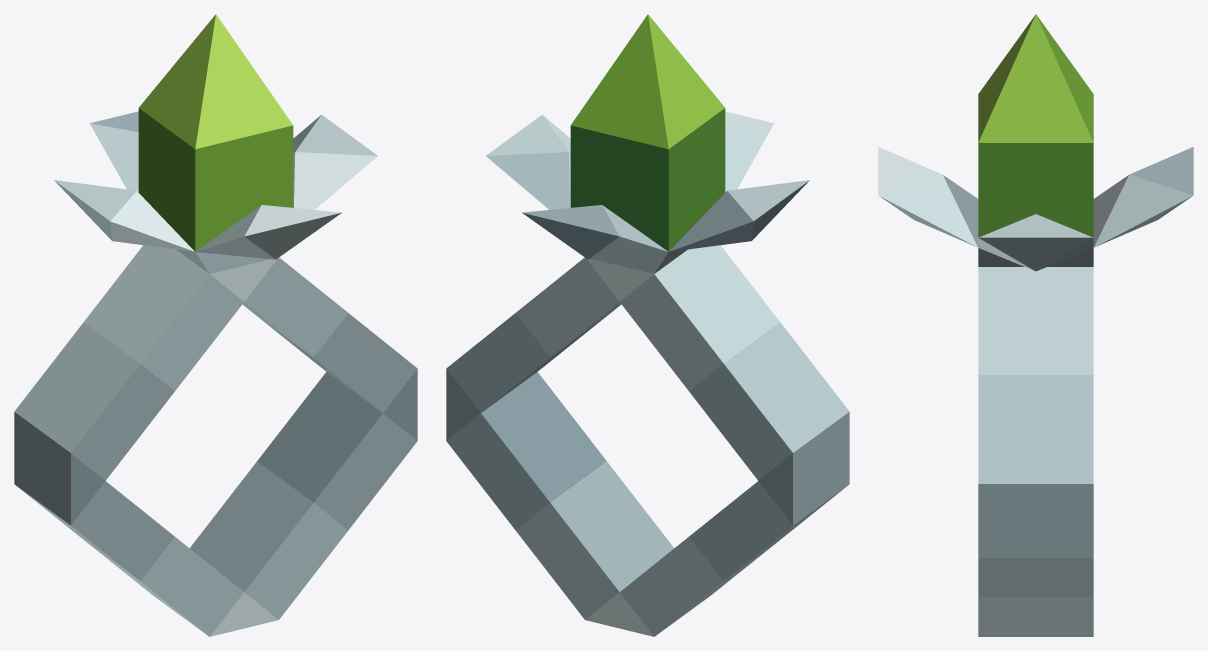
Rendered from ring_fortune_greater.obj.
3 views of the same model, side by side, from view 1: azimuth 30°, elevation 25°; view 2: azimuth 150°, elevation 25°; view 3: azimuth 270°, elevation 25° (orthographic). The views are drawn at different scales.
Parts seen in each view (by area): view 1: RING_BASE_SILVER_Cube.036, RING_DECO_FORTUNE3_Cube.042; view 2: RING_BASE_SILVER_Cube.036, RING_DECO_FORTUNE3_Cube.042; view 3: RING_BASE_SILVER_Cube.036, RING_DECO_FORTUNE3_Cube.042.
Boxes of the visible parts, x1=… form: RING_BASE_SILVER_Cube.036: x1=14, y1=245, x2=417, y2=636; RING_DECO_FORTUNE3_Cube.042: x1=54, y1=14, x2=377, y2=273; RING_BASE_SILVER_Cube.036: x1=446, y1=245, x2=849, y2=636; RING_DECO_FORTUNE3_Cube.042: x1=486, y1=14, x2=809, y2=273; RING_BASE_SILVER_Cube.036: x1=978, y1=267, x2=1093, y2=636; RING_DECO_FORTUNE3_Cube.042: x1=878, y1=14, x2=1193, y2=271.
Bounding box in the file's own units: 0.221 × 0.3616 × 0.1708.
